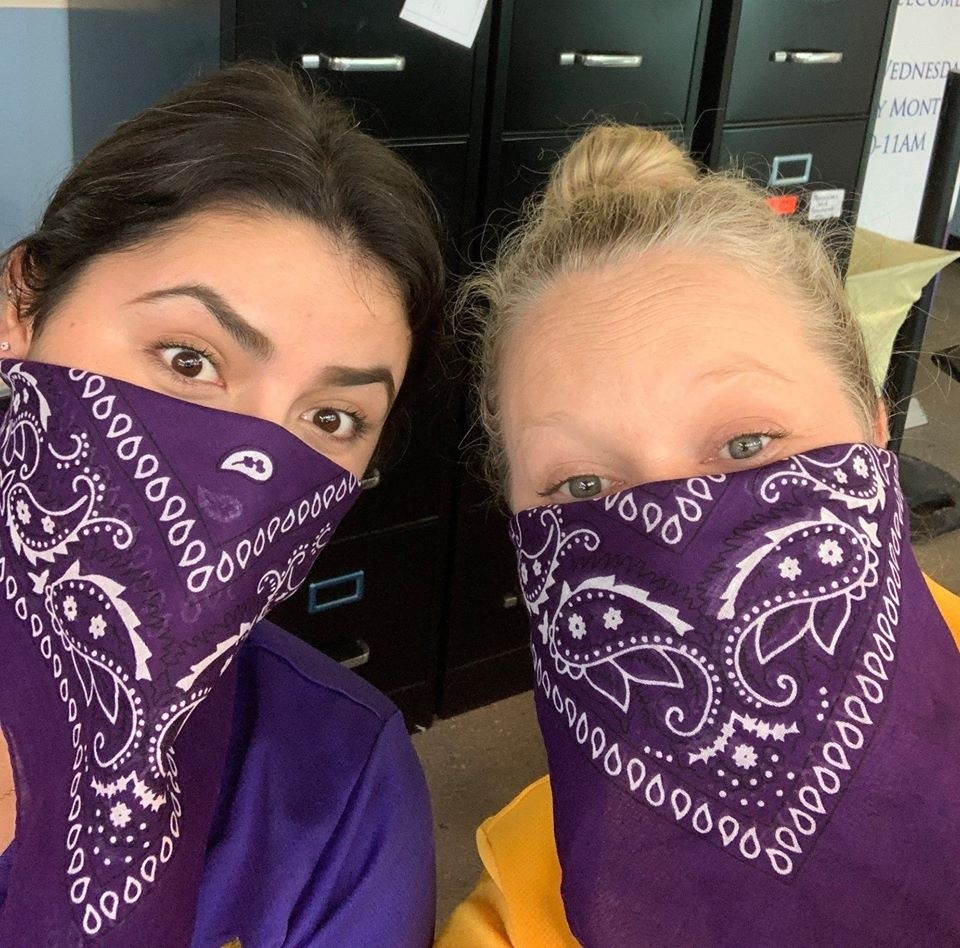face_with_mask: (474, 200, 914, 837), (22, 113, 425, 719)
